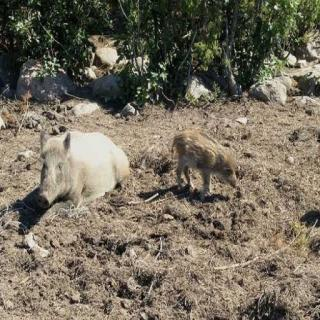Pig: (29, 98, 143, 244), (171, 96, 251, 240)
